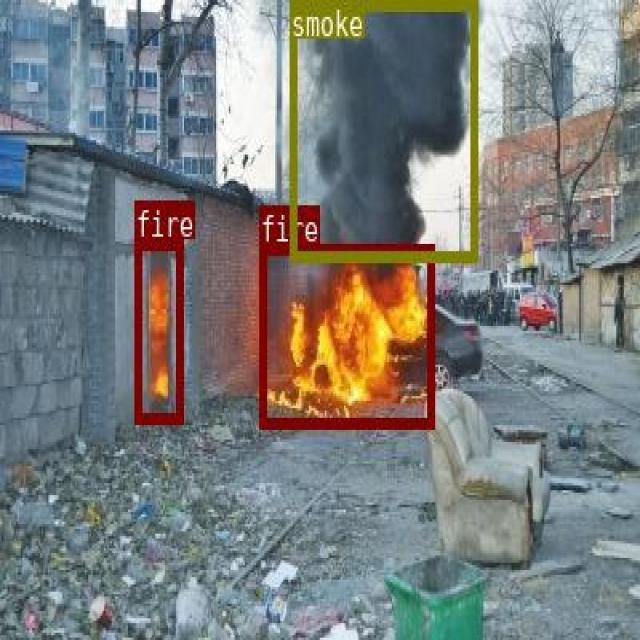fire: (259, 244, 433, 425), (134, 239, 182, 421)
smoke: (289, 0, 476, 261)
